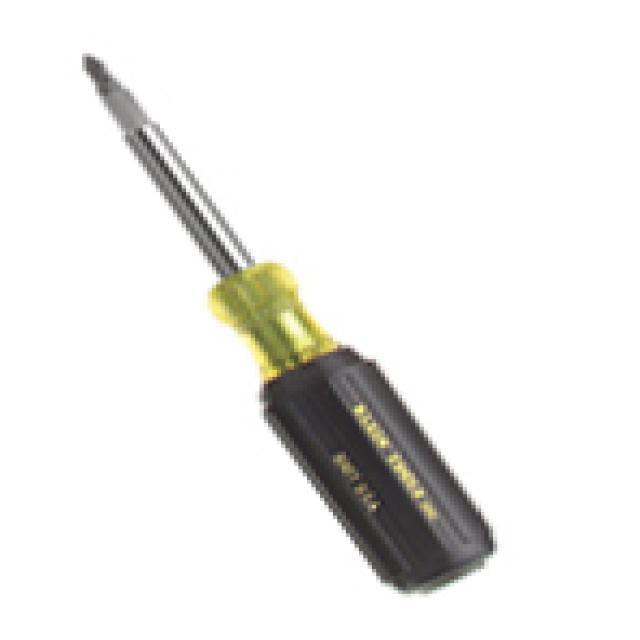screwdriver: (66, 44, 496, 603)
